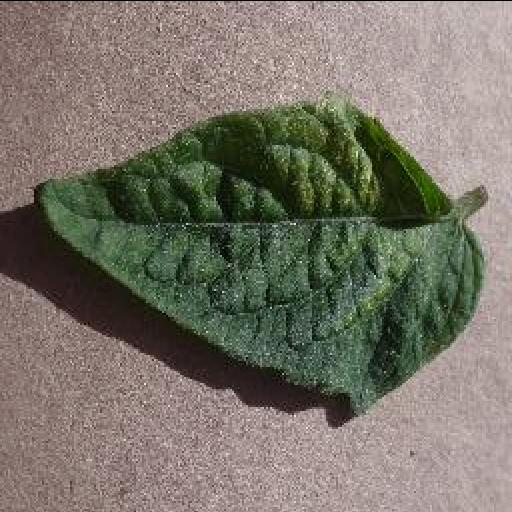disease_tomato: (33, 101, 487, 419)
